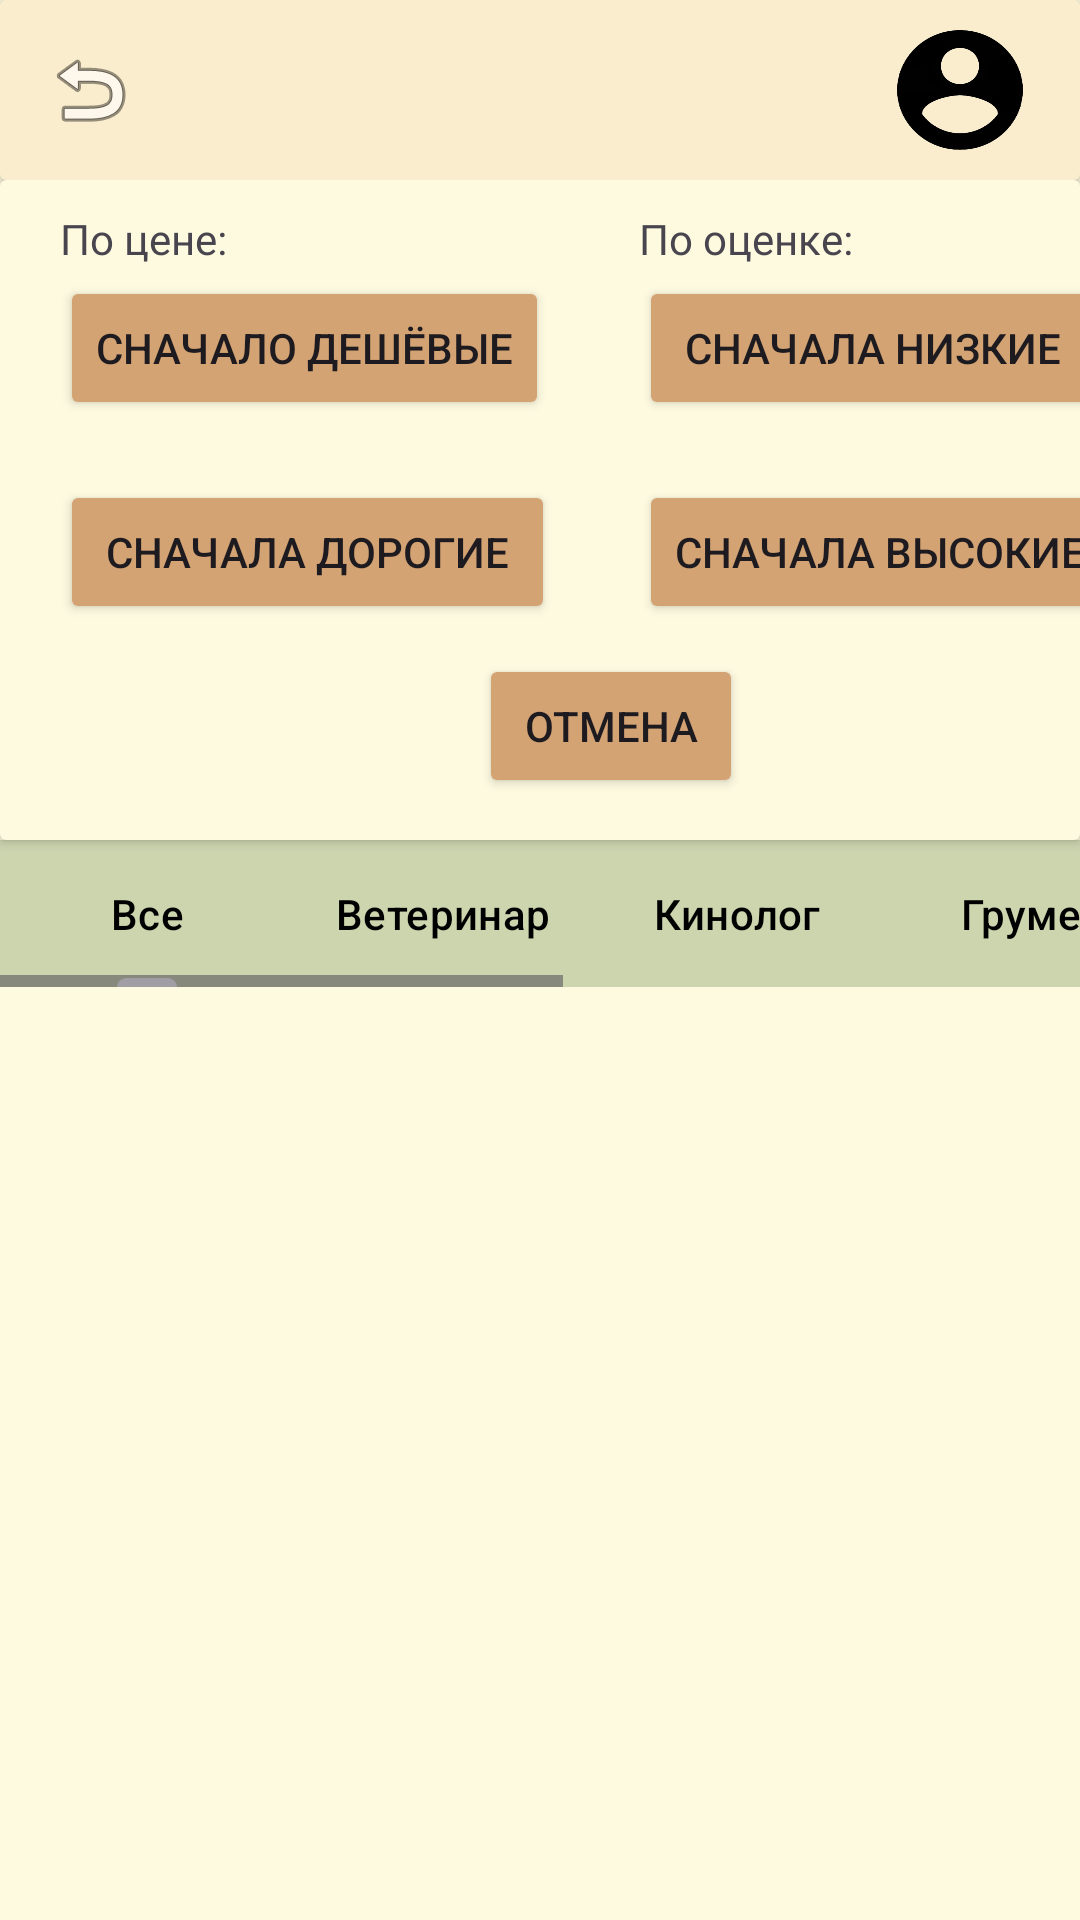

Locate icon controls on the screen. Image size 1080px×1920px, boxes as (x1,y1,x2,y2).
revert: (57,59,126,122)
